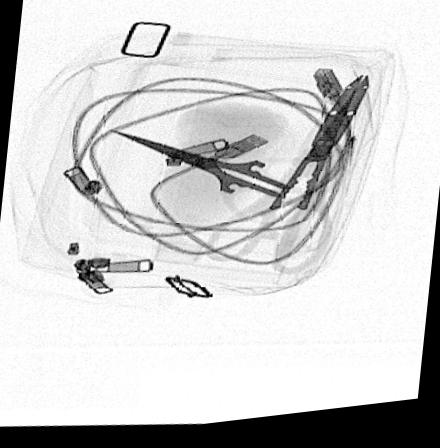Scissors: (195, 80, 375, 285), (104, 126, 352, 233)
